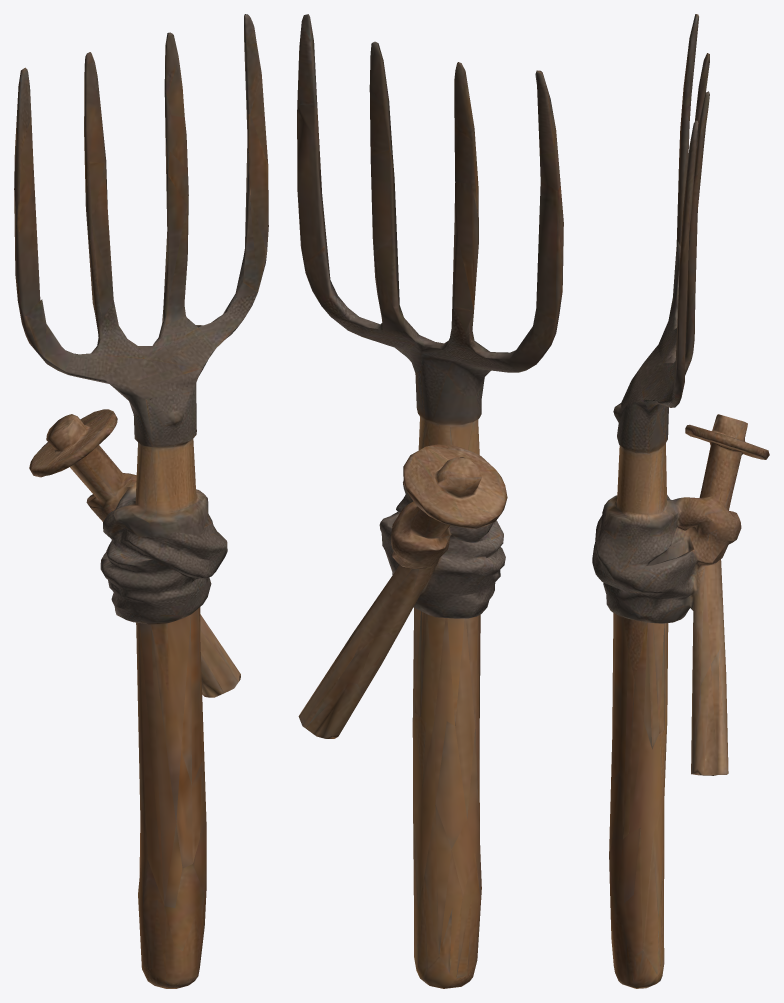
The model's file is tools.glb.
3 views of the same model, side by side, from view 1: azimuth 30°, elevation 25°; view 2: azimuth 150°, elevation 25°; view 3: azimuth 270°, elevation 25° (orthographic). The views are drawn at different scales.
Visible parts, largest first — view 1: tools; view 2: tools; view 3: tools.
Boxes of the visible parts, x1,y1,x2,y2 form: tools: (14,14,268,988); tools: (297,14,563,988); tools: (592,14,769,988).
Size of the model in its own units: 0.4864 by 1.7 by 0.3.
1 material, 1 textured.
